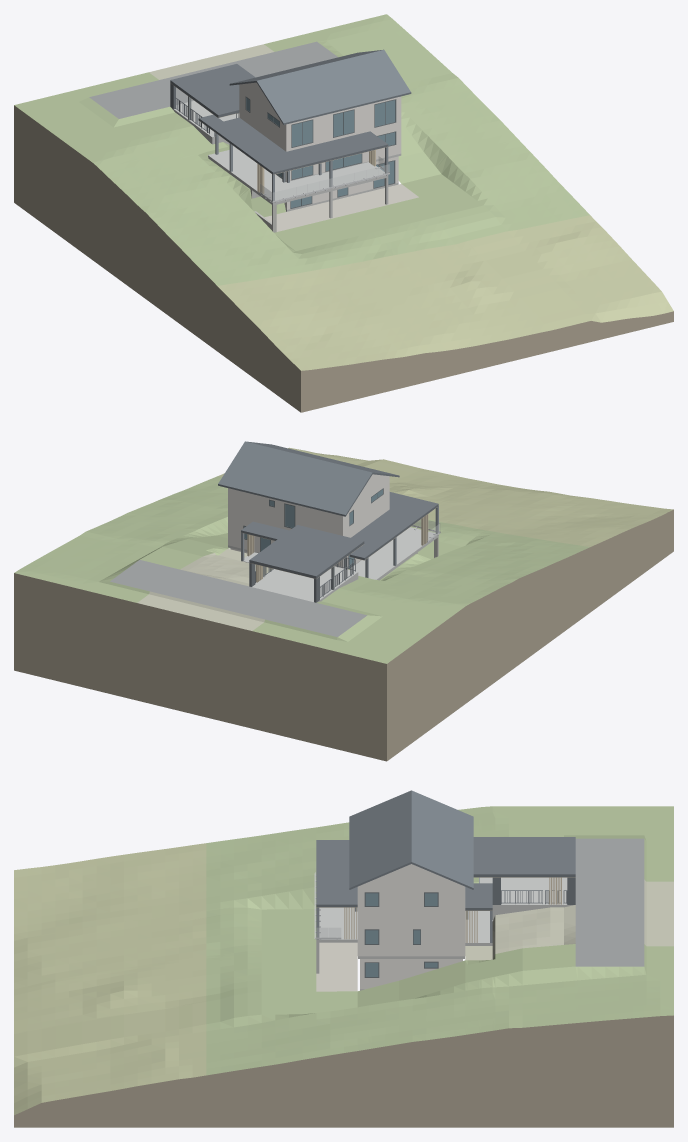
The model's file is Schaffernak_Haus_A.glb.
3 views of the same model, one above another, from view 1: azimuth 30°, elevation 25°; view 2: azimuth 150°, elevation 25°; view 3: azimuth 270°, elevation 25° (orthographic). The views are drawn at different scales.
Visible parts, largest first — view 1: Foto_Gelaende_Rasen_Boeschung, Foto_Gelaende_Hang_unten, Foto_Gelaende_Modellrand, Satteldach_0, Strasse_parallel_zum_Haus_schematisch, Foto_Gelaende_Kies_Kellerbereich, Entwurf_Dach_vorne, Carport_Dach, Balkon_vorne, Foto_Gelaende_Seitliche_Gruenflaeche, Entwurf_Dach_links, Foto_Gelaende_Rueckseite (+3 smaller); view 2: Foto_Gelaende_Modellrand, Foto_Gelaende_Rasen_Boeschung, Foto_Gelaende_Hang_unten, Strasse_parallel_zum_Haus_schematisch, Satteldach_1, Foto_Gelaende_Rueckseite, Carport_Dach, Foto_Gelaende_Seitliche_Gruenflaeche, Carport_Boden, Entwurf_Dach_links, Balkon_links, OG_back_Wand0 (+5 smaller); view 3: Foto_Gelaende_Rasen_Boeschung, Foto_Gelaende_Modellrand, Foto_Gelaende_Hang_unten, Strasse_parallel_zum_Haus_schematisch, Foto_Gelaende_Rueckseite, Foto_Gelaende_Seitliche_Gruenflaeche, Satteldach_0, Satteldach_1, Carport_Dach, Entwurf_Dach_vorne, Foto_Gelaende_Kies_Kellerbereich, Carport_Boden (+9 smaller).
Part boxes in pixels (x1=…): Foto_Gelaende_Rasen_Boeschung: x1=14, y1=14, x2=589, y2=285; Foto_Gelaende_Hang_unten: x1=217, y1=215, x2=673, y2=370; Foto_Gelaende_Modellrand: x1=14, y1=105, x2=673, y2=412; Satteldach_0: x1=256, y1=50, x2=411, y2=124; Strasse_parallel_zum_Haus_schematisch: x1=89, y1=41, x2=337, y2=118; Foto_Gelaende_Kies_Kellerbereich: x1=265, y1=184, x2=418, y2=231; Entwurf_Dach_vorne: x1=255, y1=131, x2=388, y2=174; Carport_Dach: x1=171, y1=64, x2=254, y2=114; Balkon_vorne: x1=255, y1=162, x2=388, y2=205; Foto_Gelaende_Seitliche_Gruenflaeche: x1=264, y1=34, x2=440, y2=183; Entwurf_Dach_links: x1=208, y1=117, x2=285, y2=160; Foto_Gelaende_Rueckseite: x1=149, y1=44, x2=273, y2=79; Foto_Gelaende_Modellrand: x1=14, y1=509, x2=673, y2=761; Foto_Gelaende_Rasen_Boeschung: x1=14, y1=476, x2=589, y2=663; Foto_Gelaende_Hang_unten: x1=218, y1=447, x2=673, y2=546; Strasse_parallel_zum_Haus_schematisch: x1=110, y1=560, x2=366, y2=636; Satteldach_1: x1=218, y1=441, x2=372, y2=516; Foto_Gelaende_Rueckseite: x1=137, y1=549, x2=272, y2=630; Carport_Dach: x1=250, y1=525, x2=363, y2=575; Foto_Gelaende_Seitliche_Gruenflaeche: x1=97, y1=533, x2=229, y2=602; Carport_Boden: x1=252, y1=569, x2=352, y2=602; Entwurf_Dach_links: x1=351, y1=509, x2=420, y2=552; Balkon_links: x1=351, y1=540, x2=420, y2=580; OG_back_Wand0: x1=295, y1=504, x2=345, y2=535; Foto_Gelaende_Rasen_Boeschung: x1=206, y1=806, x2=673, y2=1075; Foto_Gelaende_Modellrand: x1=14, y1=1015, x2=673, y2=1127; Foto_Gelaende_Hang_unten: x1=14, y1=843, x2=206, y2=1115; Strasse_parallel_zum_Haus_schematisch: x1=575, y1=838, x2=644, y2=966; Foto_Gelaende_Rueckseite: x1=465, y1=879, x2=673, y2=960; Foto_Gelaende_Seitliche_Gruenflaeche: x1=357, y1=944, x2=673, y2=1007; Satteldach_0: x1=349, y1=790, x2=411, y2=889; Satteldach_1: x1=411, y1=790, x2=473, y2=889; Carport_Dach: x1=473, y1=837, x2=575, y2=874; Entwurf_Dach_vorne: x1=316, y1=840, x2=357, y2=907; Foto_Gelaende_Kies_Kellerbereich: x1=316, y1=942, x2=357, y2=991; Carport_Boden: x1=492, y1=877, x2=573, y2=906.
Size of the model in its own units: 36 by 16.06 by 48.
